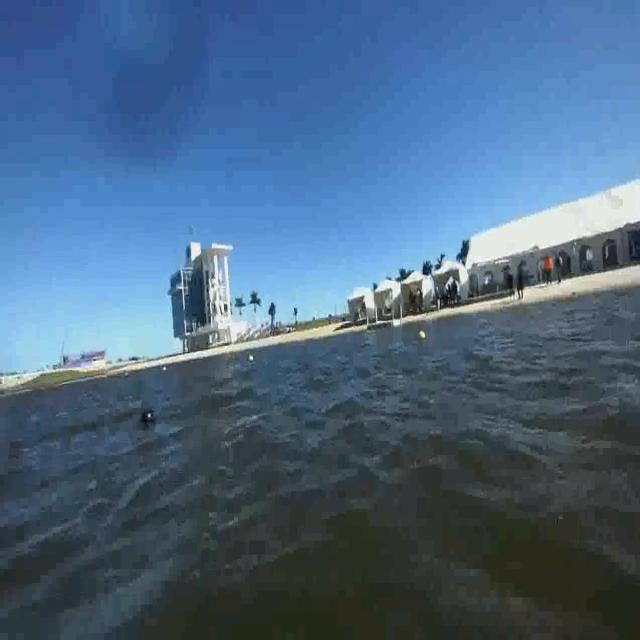black-buoy: (141, 406, 156, 425)
yellow-buoy: (419, 328, 427, 340)
